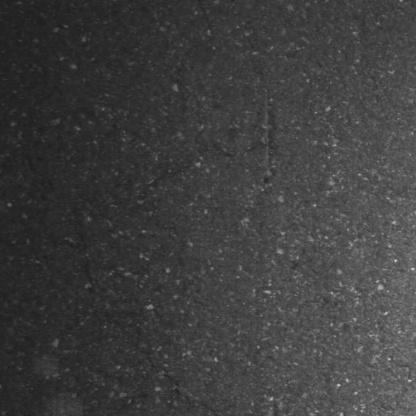Cracks: (128, 342, 243, 416), (260, 88, 280, 182), (265, 396, 285, 416)
